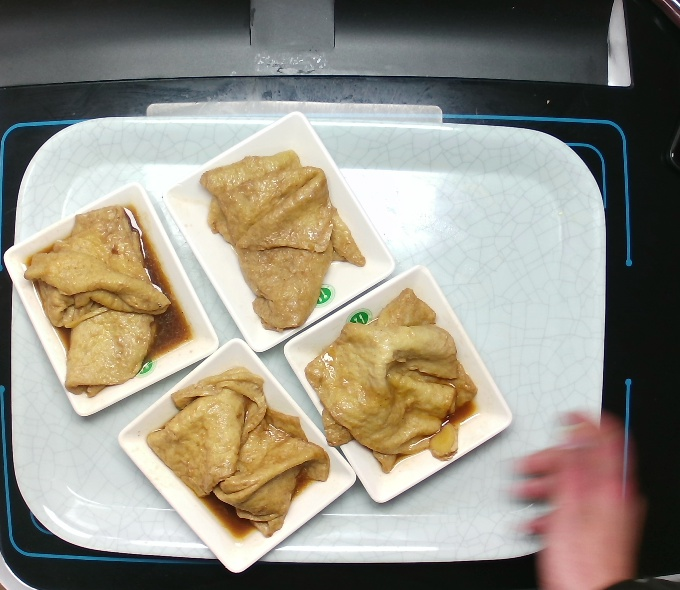wcq-YouDouFu: (292, 281, 480, 484), (141, 365, 334, 539), (195, 145, 371, 330), (18, 197, 172, 402)
